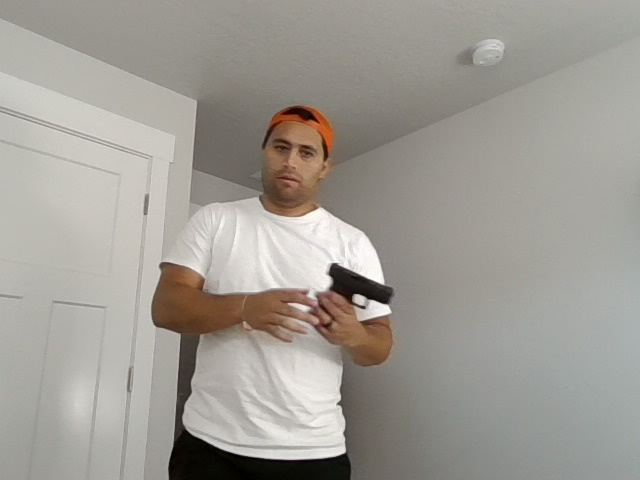handgun: (326, 260, 395, 317)
